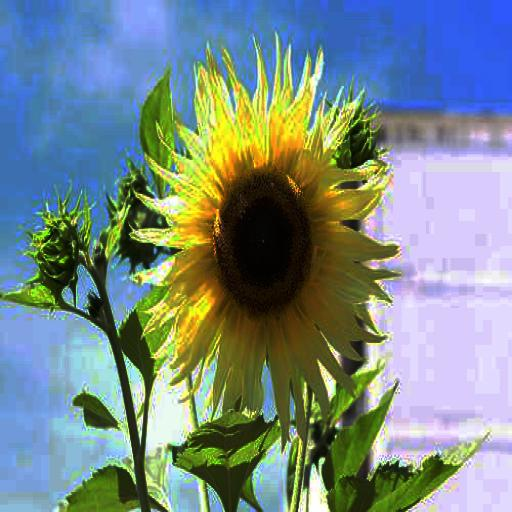sunflower: (136, 36, 396, 430)
